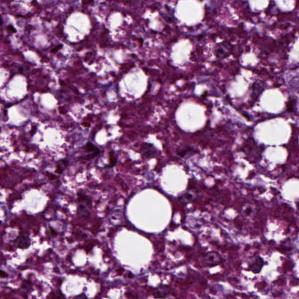steatosis: (124, 192, 174, 233), (175, 103, 213, 134)
